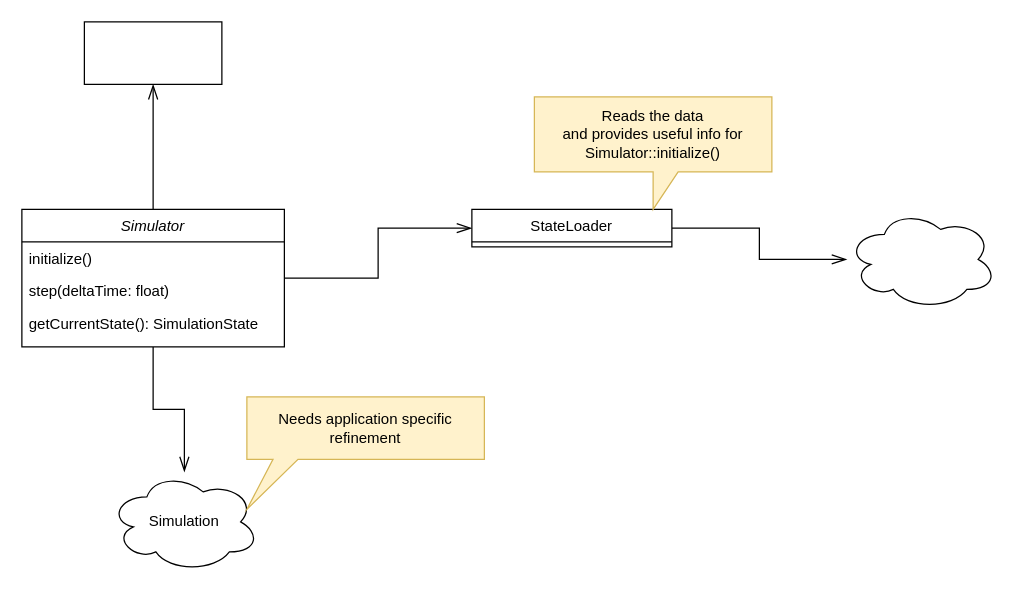
Image size: 1019x594. Some labels were removed from this diagram. Here are the shapes that lost their labels. From the top down, the box of each, then its label:
(83, 21, 222, 84): «typedef» SimulationState
(846, 208, 997, 309): Input Reader
